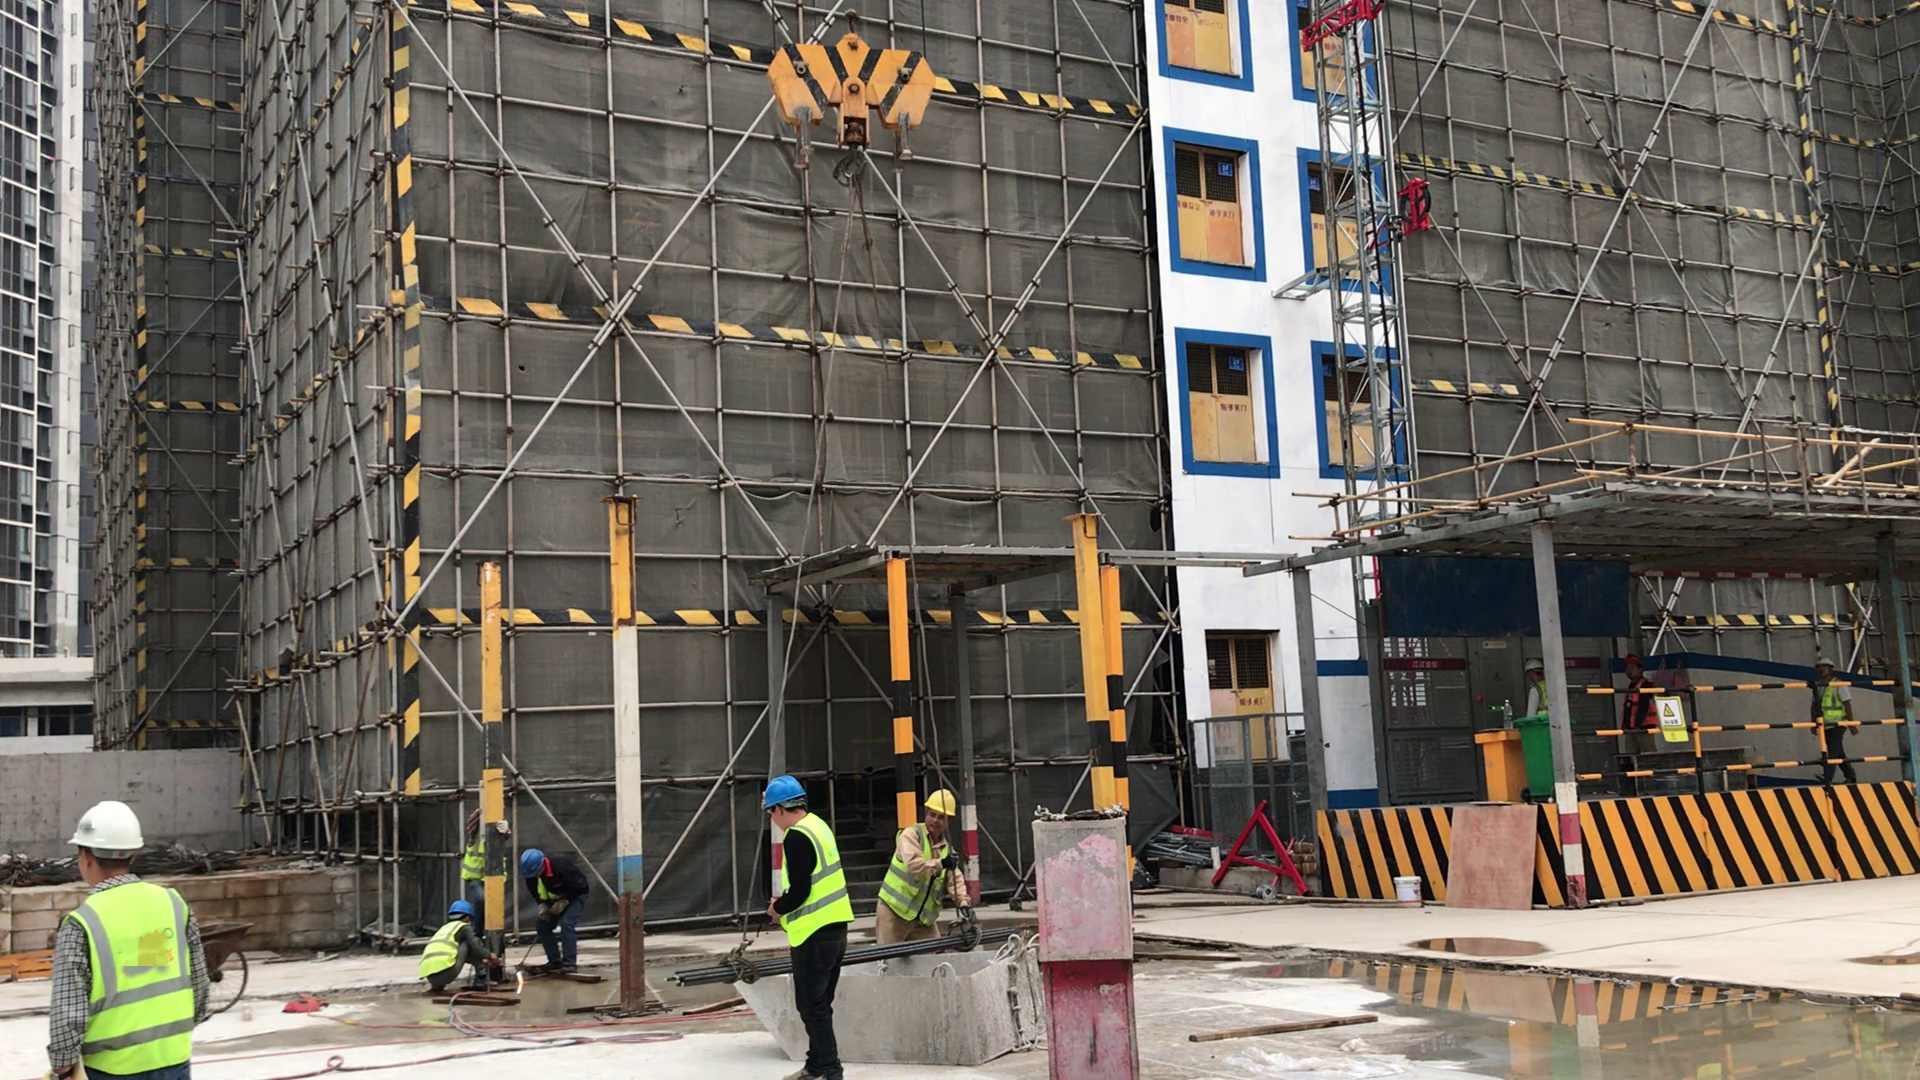helmet: (61, 791, 167, 868), (747, 766, 813, 815), (916, 785, 974, 823), (443, 892, 492, 923), (515, 850, 548, 881), (1617, 647, 1651, 668), (1521, 658, 1547, 677), (1818, 655, 1841, 672)
person: (32, 783, 235, 1080), (729, 756, 874, 1080), (863, 762, 990, 972), (501, 830, 604, 1007), (417, 879, 511, 1007), (1609, 646, 1671, 767), (447, 784, 509, 900), (1811, 650, 1861, 784), (1513, 652, 1558, 721)
vest: (55, 876, 210, 1080), (762, 805, 864, 959), (880, 811, 960, 941), (451, 804, 513, 893), (412, 915, 470, 995), (526, 864, 575, 919), (1617, 679, 1664, 729), (1810, 680, 1852, 734), (1522, 678, 1554, 723)
